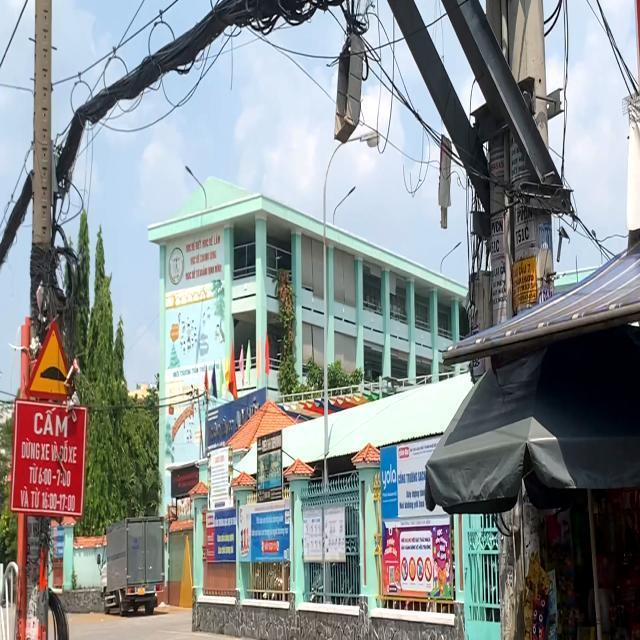221-duong-go-ghe: (24, 322, 74, 400)
